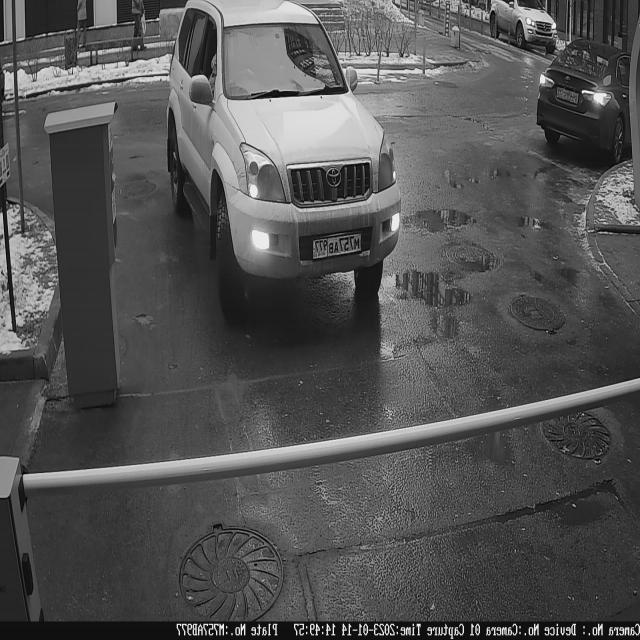car-plate-numbers: (311, 228, 366, 264)
